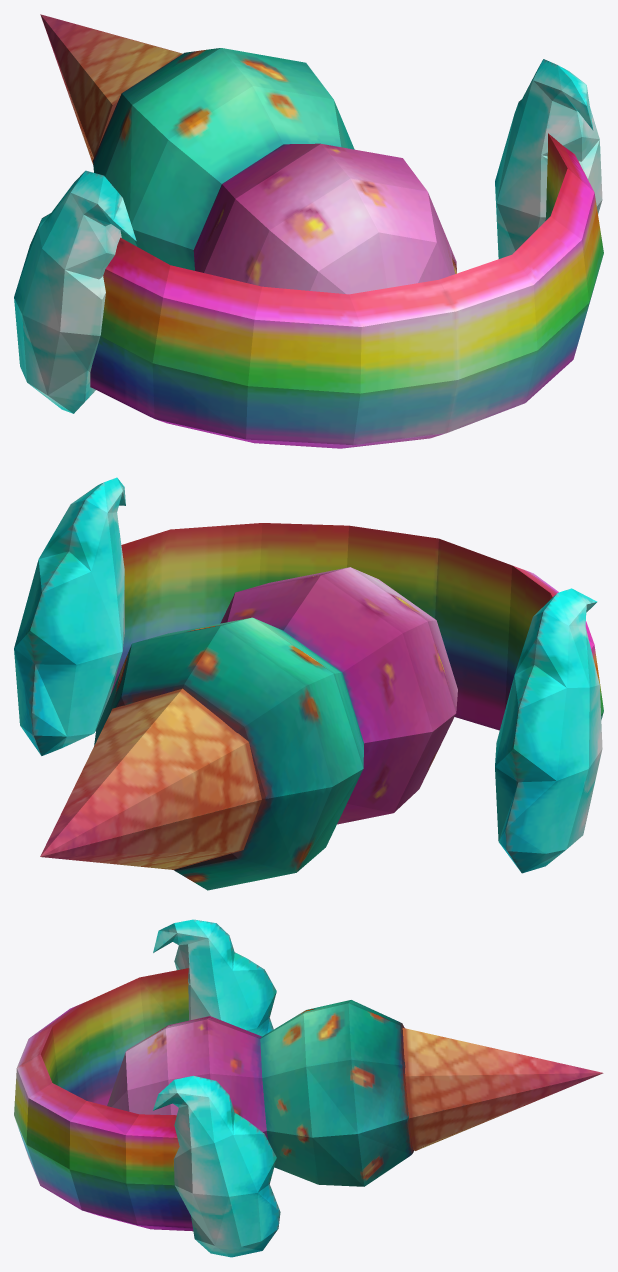
The model's file is common_back_90155.obj.
3 views of the same model, one above another, from view 1: azimuth 30°, elevation 25°; view 2: azimuth 150°, elevation 25°; view 3: azimuth 270°, elevation 25° (orthographic). The views are drawn at different scales.
Parts seen in each view (by area): view 1: common_back_90155; view 2: common_back_90155; view 3: common_back_90155.
Part boxes in pixels (x1,y1,x2,y2): common_back_90155: (14,14,603,448); common_back_90155: (14,477,603,890); common_back_90155: (14,919,603,1257).
Size of the model in its own units: 58.86 by 27.43 by 75.17.
Materials: 1 (1 with a texture image).
